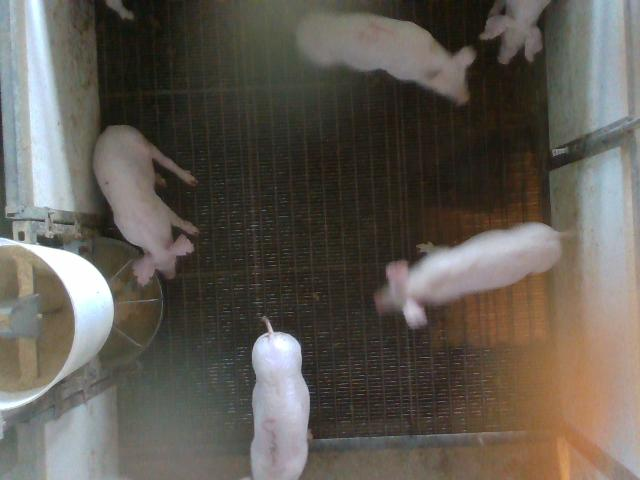pig-3: (251, 331, 310, 479)
pig-4: (298, 12, 476, 104)
